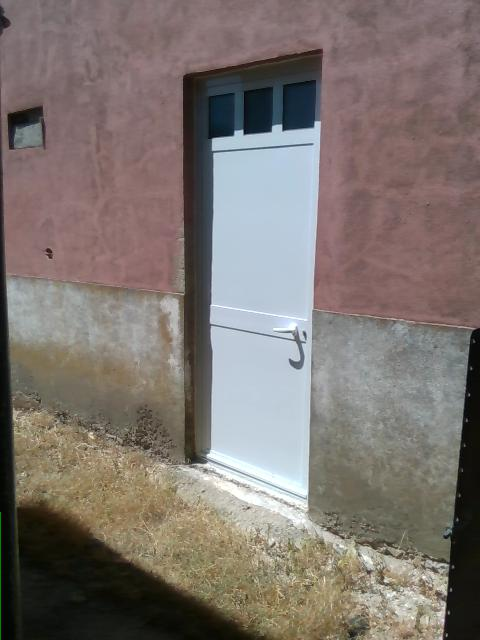closed_door: (185, 51, 322, 517)
